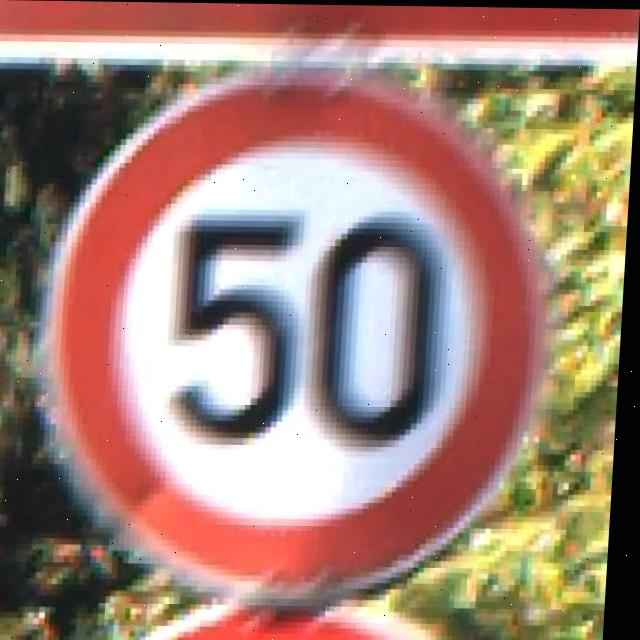Speed limit 50: (36, 63, 563, 612)
